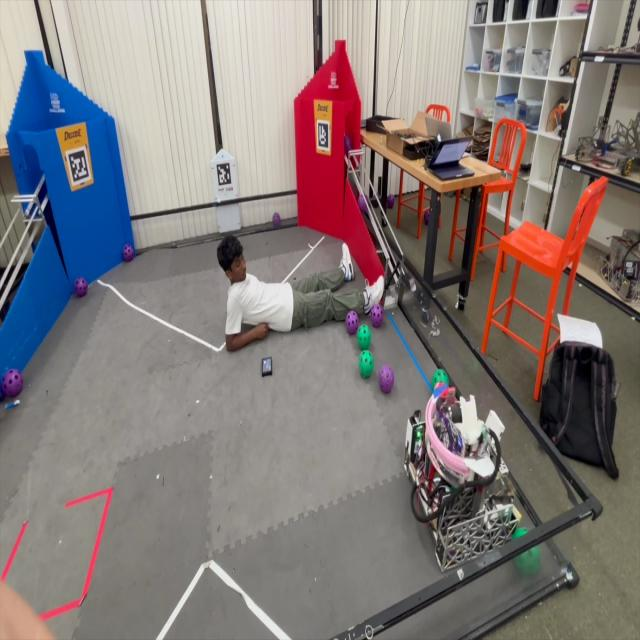artifact_green: (359, 351, 373, 378), (431, 369, 449, 389), (357, 325, 371, 349), (358, 194, 367, 214), (512, 528, 527, 539)
artifact_purple: (0, 369, 23, 398), (379, 365, 394, 393), (345, 310, 359, 335), (370, 304, 383, 327), (74, 278, 87, 297), (123, 244, 134, 262), (358, 194, 367, 214), (344, 135, 352, 153), (272, 213, 281, 228), (387, 194, 394, 208), (423, 209, 429, 224)
